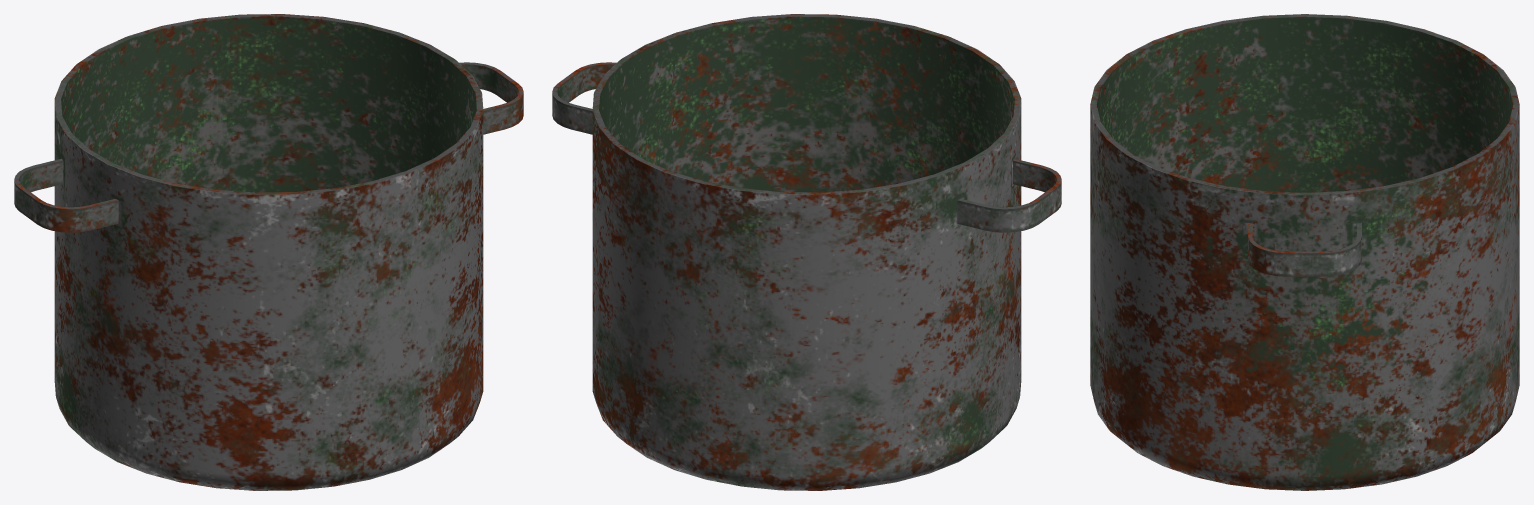
File: SM_Saucepan.fbx
3 renders of one model, left to right at view 1: azimuth 30°, elevation 25°; view 2: azimuth 150°, elevation 25°; view 3: azimuth 270°, elevation 25°, orthographic.
Parts seen in each view (by area): view 1: SM_Saucepan; view 2: SM_Saucepan; view 3: SM_Saucepan.
Boxes of the visible parts, x1=… form: SM_Saucepan: x1=14, y1=14, x2=523, y2=490; SM_Saucepan: x1=552, y1=14, x2=1061, y2=490; SM_Saucepan: x1=1090, y1=14, x2=1519, y2=490.
Bounding box in the file's own units: 0.3503 × 0.2119 × 0.271.
